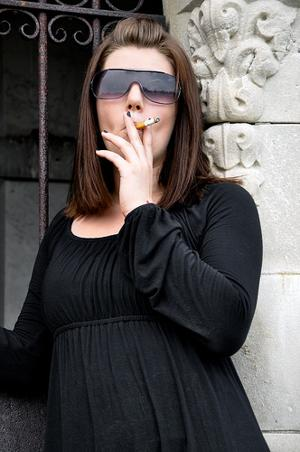person: (2, 13, 273, 452)
